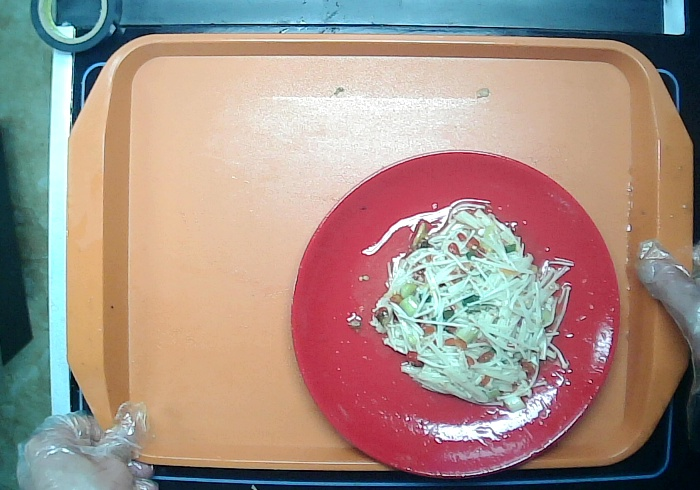HZYJPL-Hong_Se_Yuan_Pan: (289, 148, 622, 481)
